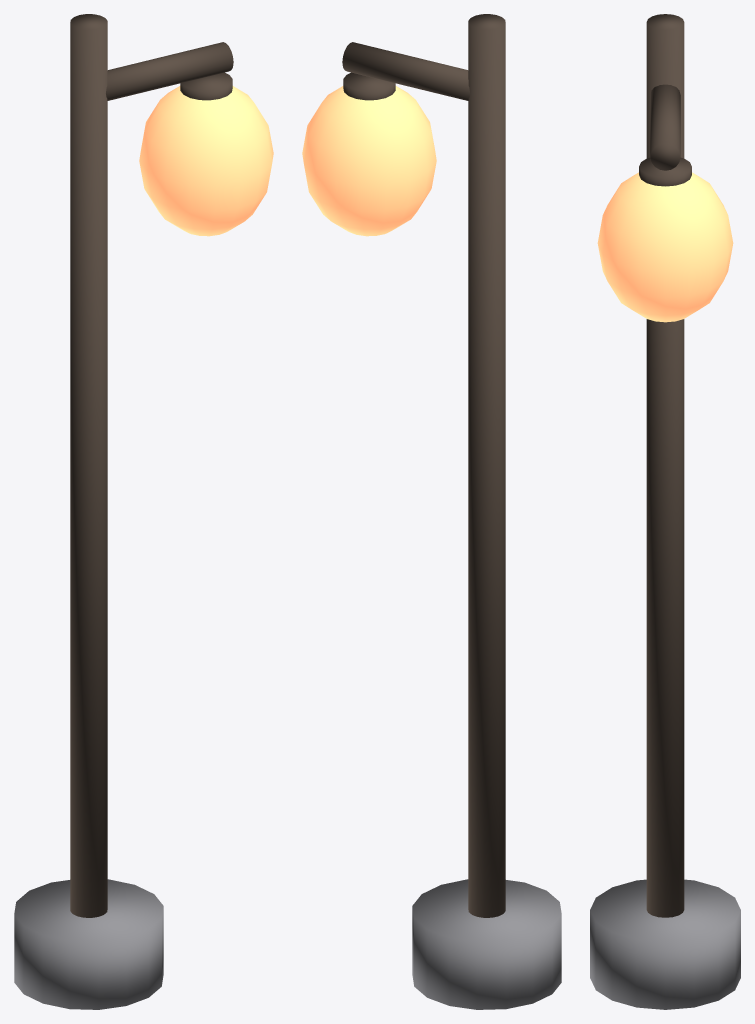
File: prop_chochin_tate.glb
3 renders of one model, left to right at view 1: azimuth 30°, elevation 25°; view 2: azimuth 150°, elevation 25°; view 3: azimuth 270°, elevation 25°, orthographic.
Visible parts, largest first — view 1: chochin_tate; view 2: chochin_tate; view 3: chochin_tate.
Boxes of the visible parts, <box> form: chochin_tate: <box>14,14,273,1009</box>; chochin_tate: <box>302,14,561,1009</box>; chochin_tate: <box>590,14,740,1009</box>.
Bounding box in the file's own units: 0.74 × 2.8 × 0.4.
